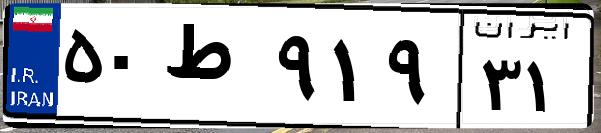0: (110, 28, 158, 98)
1: (330, 28, 385, 110), (525, 38, 570, 115)
3: (475, 38, 525, 113)
5: (57, 26, 110, 100)
9: (270, 28, 330, 110), (385, 28, 445, 110)
ط: (158, 20, 270, 120)
